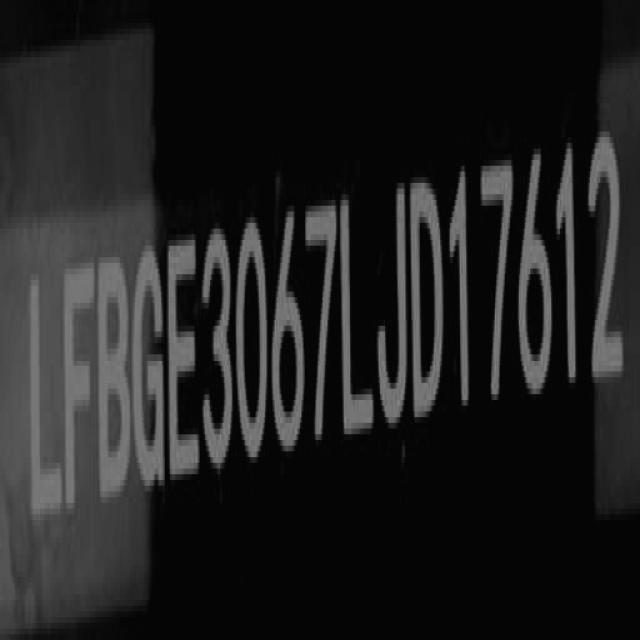0: (236, 212, 272, 472)
1: (449, 153, 474, 427), (557, 134, 578, 404)
2: (590, 126, 625, 393)
3: (203, 220, 236, 485)
6: (520, 137, 555, 411), (273, 198, 306, 464)
7: (480, 147, 514, 423), (306, 184, 338, 460)
B: (97, 248, 134, 508)
D: (413, 162, 445, 432)
E: (170, 228, 205, 494)
F: (63, 260, 96, 528)
G: (132, 241, 166, 508)
J: (379, 175, 412, 441)
L: (28, 266, 66, 534), (340, 179, 372, 448)
